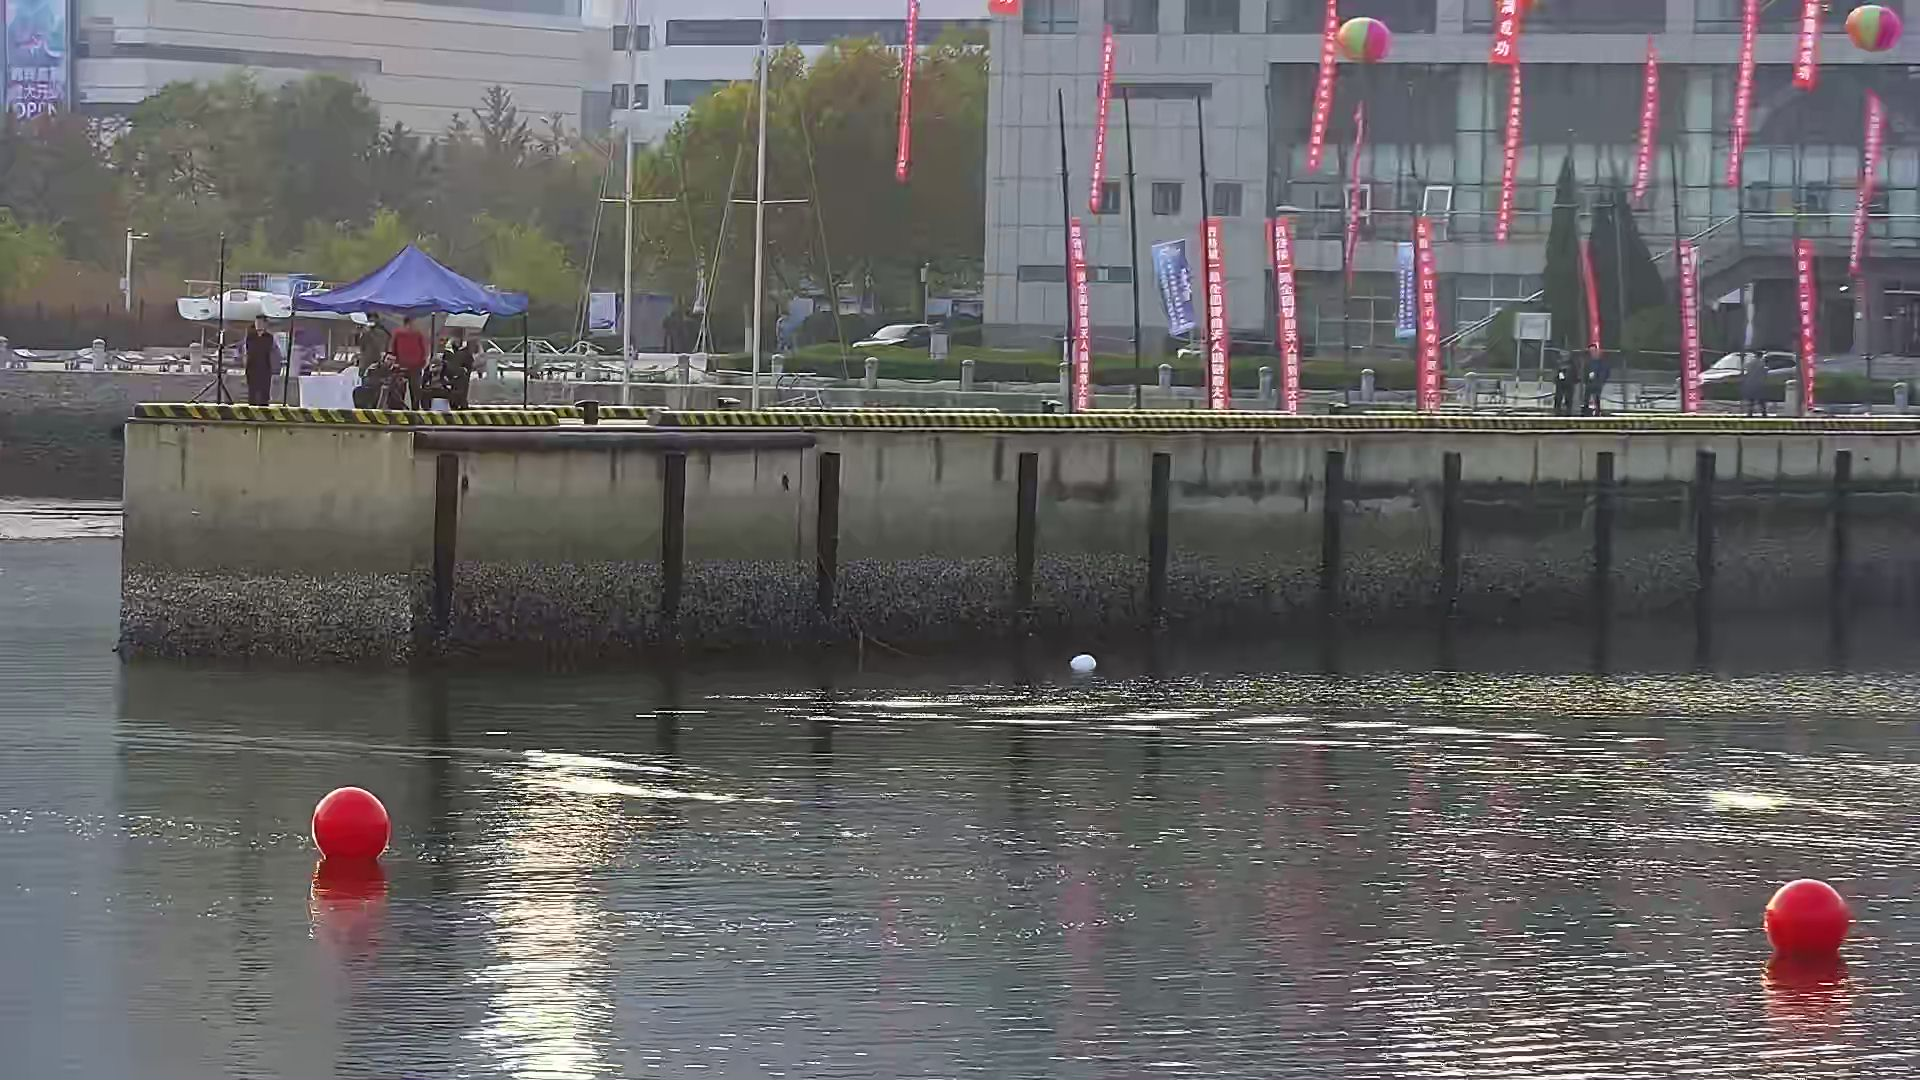ball: (1759, 877, 1847, 960), (309, 787, 392, 862)
rubbish: (1065, 655, 1112, 678)
